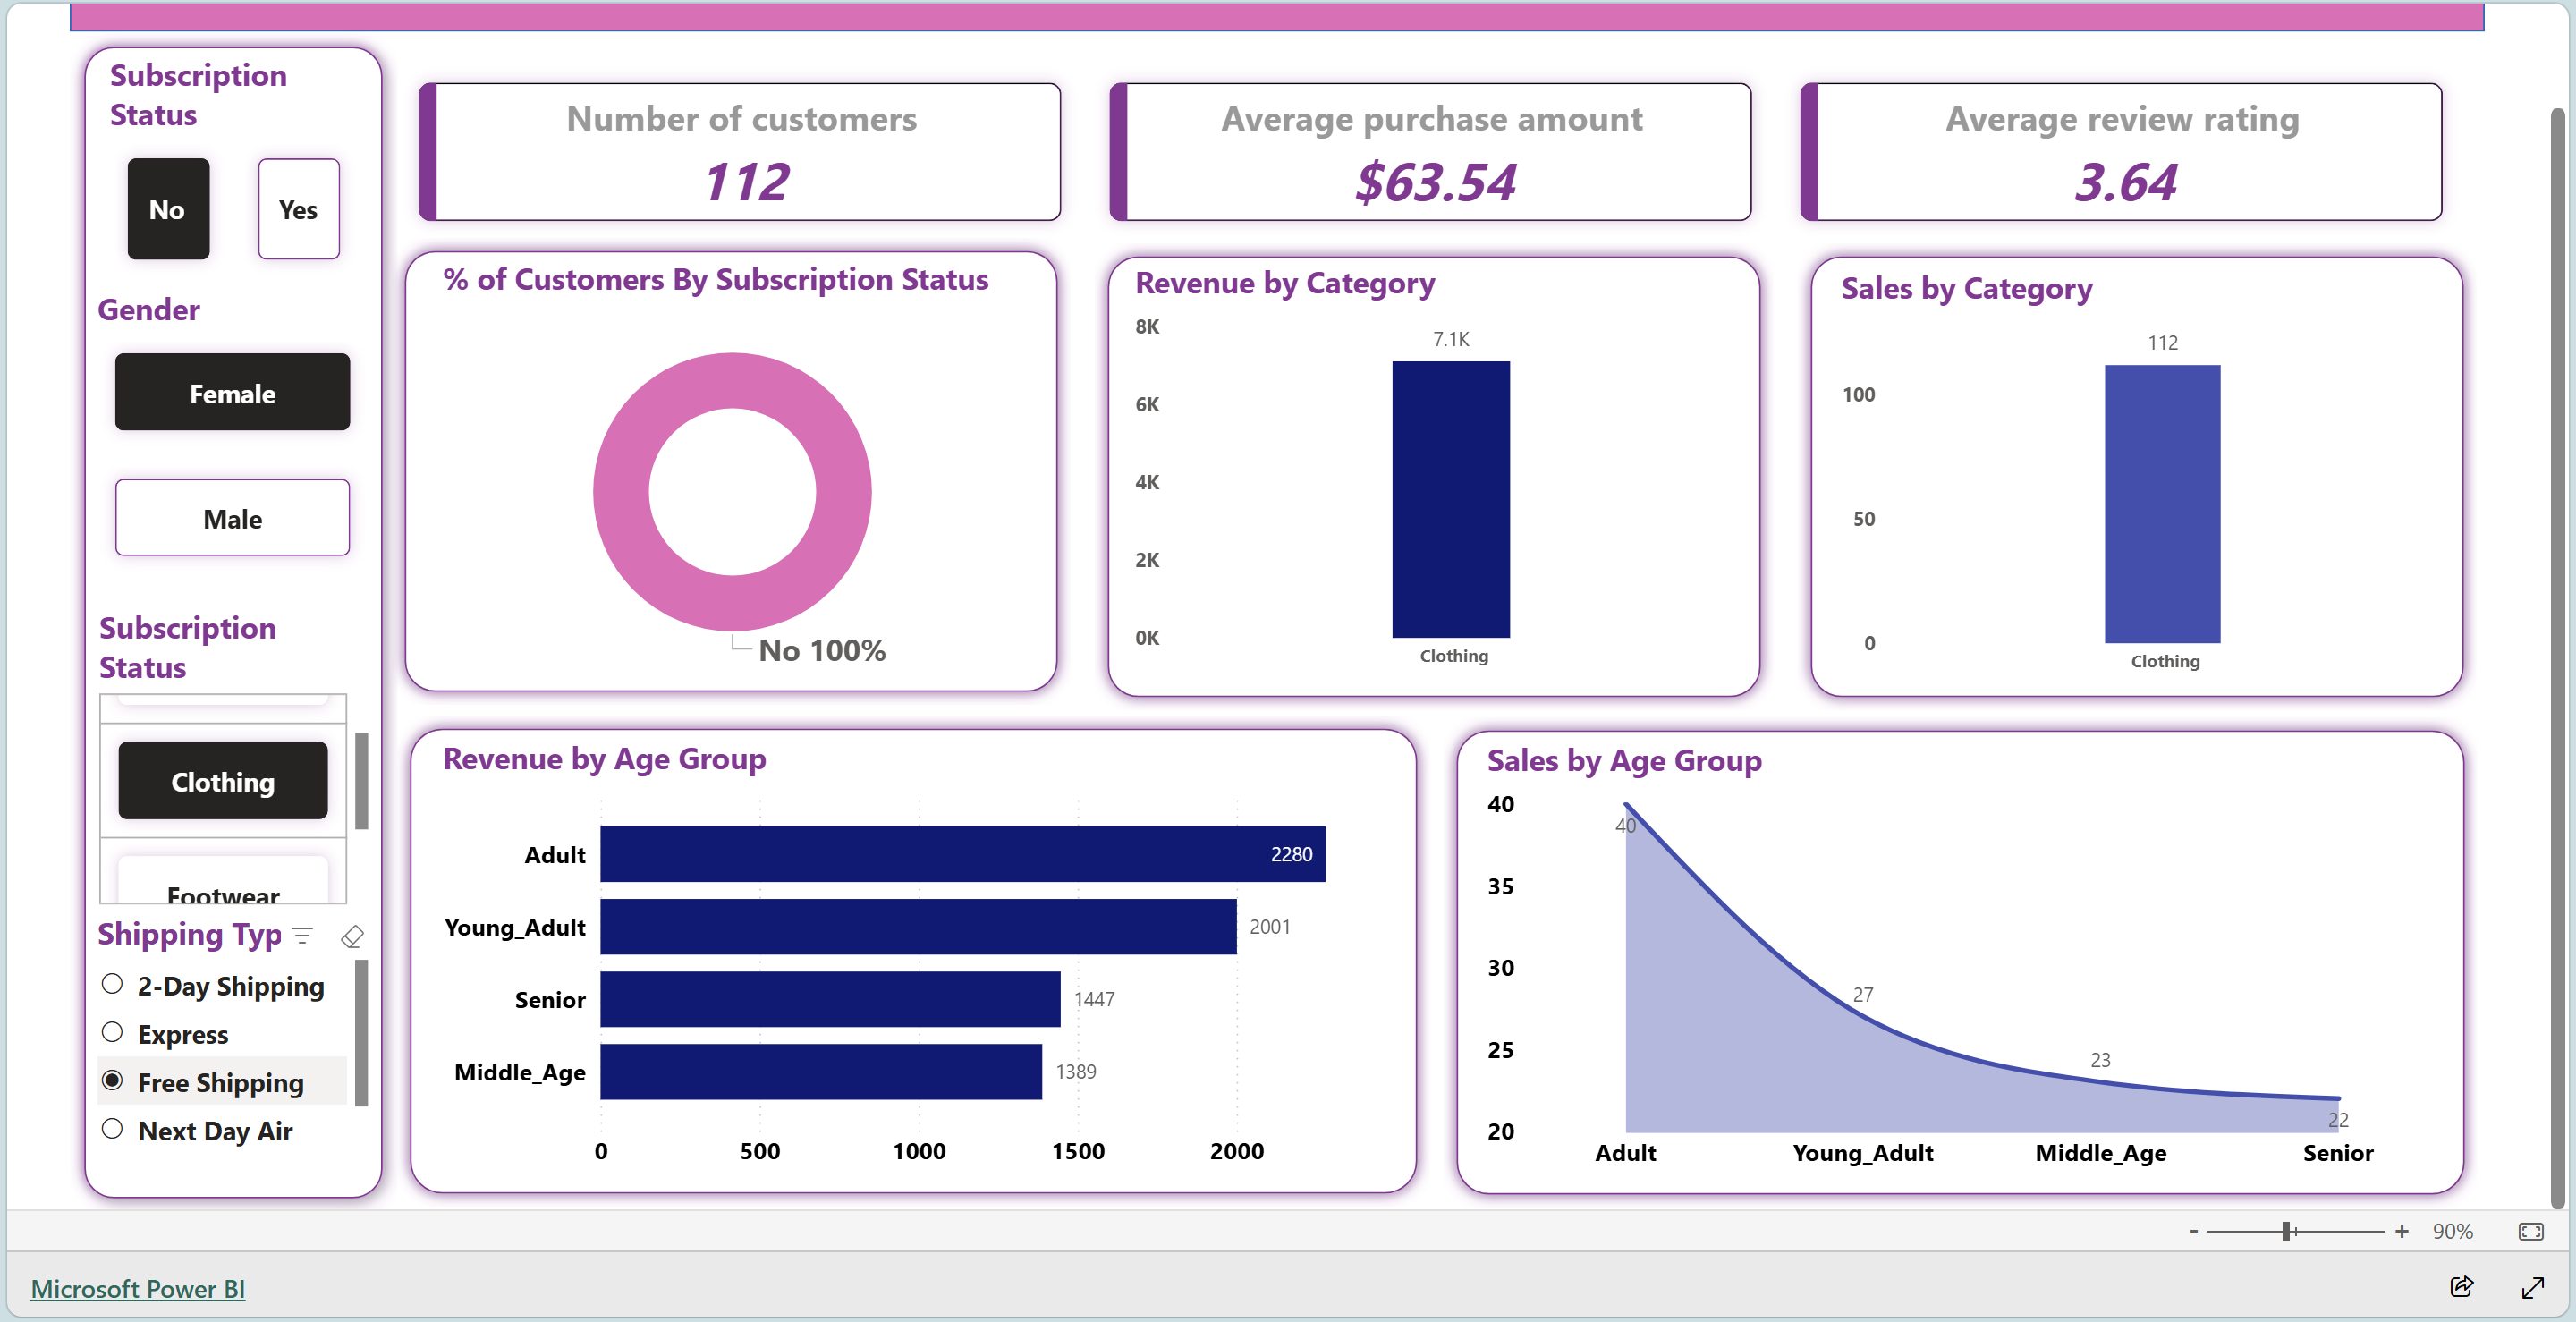

The dashboard page shown, as its layout file describes it:
{"tool":"powerbi","page":{"name":"Page 1","canvas":[1500,820],"ordinal":0},"visuals":[{"type":"cardVisual","fields":{"Data":["public customer.Number of customers","public customer.Average purchase amount","public customer.Average review rating"]},"box":[188.9,92.2,1313.3,142.2],"z":0},{"type":"shape","box":[0,0,1500,88.6],"z":1000},{"type":"textbox","box":[0,0,1500,88.6],"z":2000},{"type":"shape","box":[200,217,421.7,290],"z":3000},{"type":"donutChart","title":"% of Customers By Subscription Status","fields":{"Category":["public customer.subscription_status"],"Y":["Count(public customer.customer_id)"]},"box":[226.7,228.7,370,266.7],"z":4000},{"type":"shape","box":[203.3,513.3,641.7,305],"z":5000},{"type":"shape","box":[636.7,220.3,421.7,290],"z":6000},{"type":"shape","box":[1073.3,220.3,421.7,290],"z":7000},{"type":"clusteredColumnChart","title":"Revenue by Category","fields":{"Y":["Sum(public customer.purchase_amount)"],"Category":["public customer.category"]},"box":[656.3,231,382,262],"z":8000},{"type":"clusteredColumnChart","title":"Sales by Category","fields":{"Y":["Count(public customer.customer_id)"],"Category":["public customer.category"]},"box":[1095,234,382,262],"z":9000},{"type":"shape","box":[0,88.3,203.3,733.3],"z":10000},{"type":"advancedSlicerVisual","title":"Subscription Status","fields":{"Values":["public customer.subscription_status"]},"box":[20,102.7,164.5,144.5],"z":11000},{"type":"advancedSlicerVisual","title":"Gender","fields":{"Values":["public customer.gender"]},"box":[12,248,178,197],"z":12000},{"type":"advancedSlicerVisual","title":"Subscription Status","fields":{"Values":["public customer.category"]},"box":[13,445,177,190],"z":13000},{"type":"listSlicer","title":"Shipping Type","fields":{"Values":["public customer.shipping_type"]},"box":[11.8,635.5,178.2,162.7],"z":14000},{"type":"clusteredBarChart","title":"Revenue by Age Group","fields":{"Y":["Sum(public customer.purchase_amount)"],"Category":["public customer.age_group"]},"box":[226.7,526.7,597.8,277.8],"z":15000},{"type":"shape","box":[853.3,514.4,642.2,304.4],"z":16000},{"type":"areaChart","title":"Sales by Age Group","fields":{"Category":["public customer.age_group"],"Y":["Count(public customer.customer_id)"]},"box":[875.6,527.8,597.8,277.8],"z":17000}]}

Visuals, with their boxes on the page's 1500x820 design canvas (x1, y1, x2, y2). These are canvas units, not pixel positions in the 2576x1322 screenshot, which may show the page scaled, cropped or inside an application window:
cardVisual - public customer.Number of customers x public customer.Average purchase amount: x1=189, y1=92, x2=1502, y2=234
shape: x1=0, y1=0, x2=1500, y2=89
textbox: x1=0, y1=0, x2=1500, y2=89
shape: x1=200, y1=217, x2=622, y2=507
"% of Customers By Subscription Status" donutChart: x1=227, y1=229, x2=597, y2=495
shape: x1=203, y1=513, x2=845, y2=818
shape: x1=637, y1=220, x2=1058, y2=510
shape: x1=1073, y1=220, x2=1495, y2=510
"Revenue by Category" clusteredColumnChart: x1=656, y1=231, x2=1038, y2=493
"Sales by Category" clusteredColumnChart: x1=1095, y1=234, x2=1477, y2=496
shape: x1=0, y1=88, x2=203, y2=822
"Subscription Status" advancedSlicerVisual: x1=20, y1=103, x2=184, y2=247
"Gender" advancedSlicerVisual: x1=12, y1=248, x2=190, y2=445
"Subscription Status" advancedSlicerVisual: x1=13, y1=445, x2=190, y2=635
"Shipping Type" listSlicer: x1=12, y1=636, x2=190, y2=798
"Revenue by Age Group" clusteredBarChart: x1=227, y1=527, x2=824, y2=804
shape: x1=853, y1=514, x2=1496, y2=819
"Sales by Age Group" areaChart: x1=876, y1=528, x2=1473, y2=806
